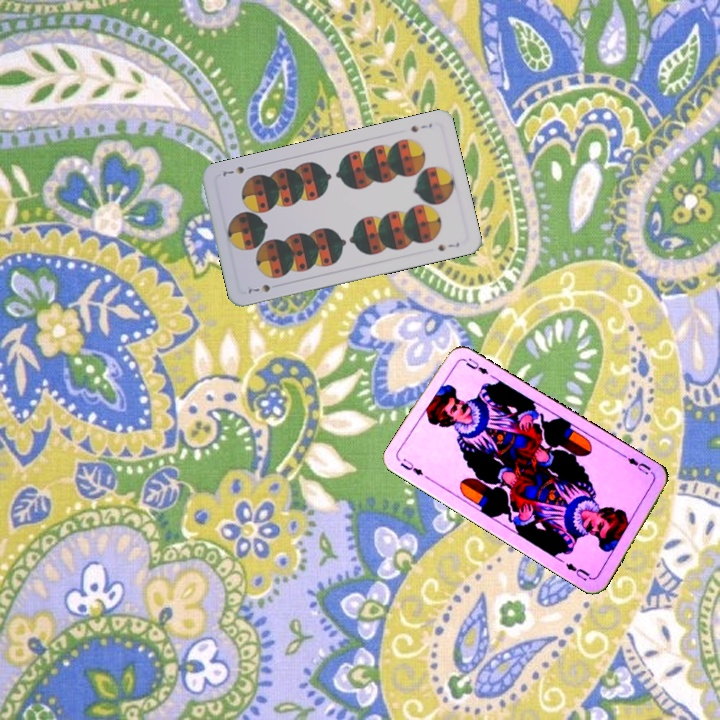EU: (620, 452, 657, 479), (396, 454, 426, 478)
S7: (244, 280, 273, 296), (407, 119, 435, 135)
